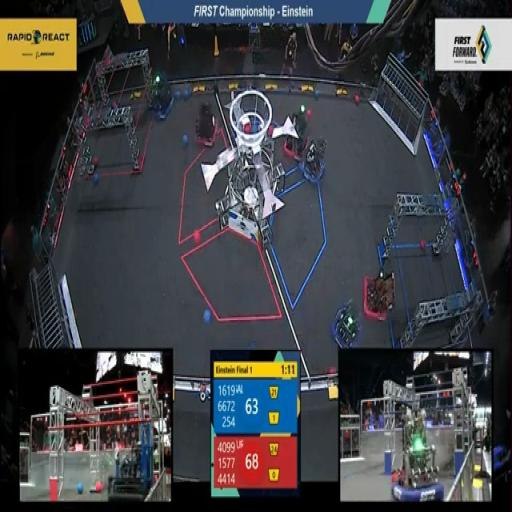robot: (144, 67, 178, 127), (361, 267, 395, 327), (328, 294, 362, 354), (285, 102, 312, 166), (301, 134, 329, 190), (194, 99, 222, 153)
